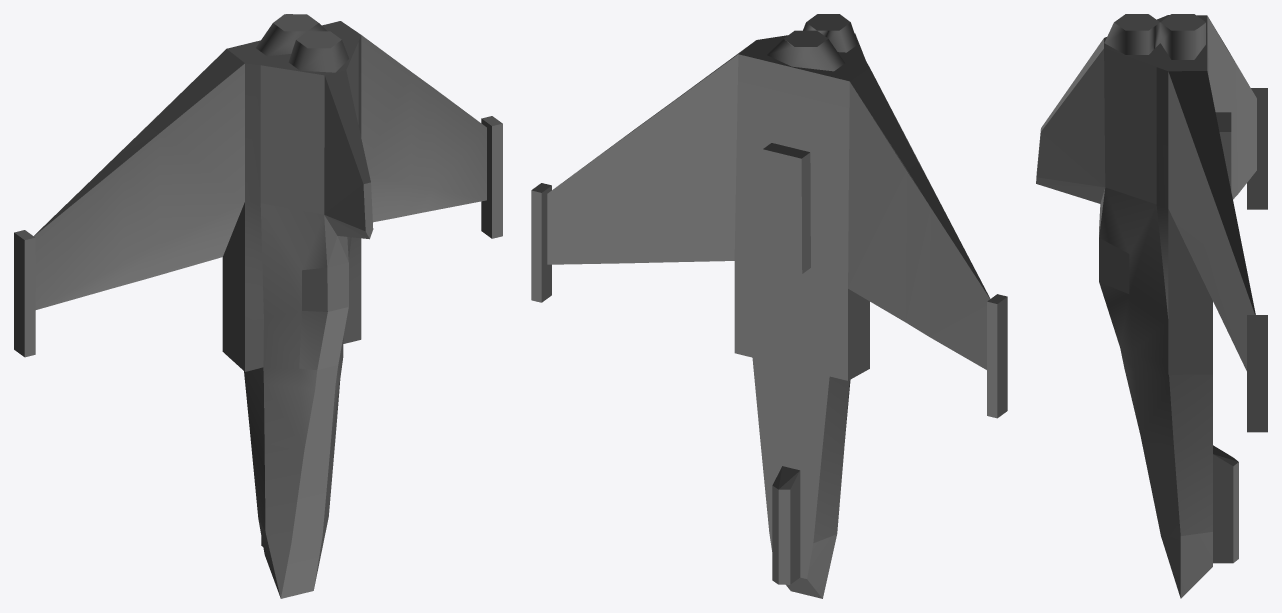
Rendered from ship_phantom_body.glb.
3 renders of one model, left to right at view 1: azimuth 30°, elevation 25°; view 2: azimuth 150°, elevation 25°; view 3: azimuth 270°, elevation 25°, orthographic. The views are drawn at different scales.
Visible parts, largest first — view 1: group_19; view 2: group_19; view 3: group_19.
Part boxes in pixels (x1=…): group_19: x1=14, y1=14, x2=502, y2=598; group_19: x1=531, y1=14, x2=1007, y2=598; group_19: x1=1036, y1=14, x2=1267, y2=598.
Size of the model in its own units: 888 by 1014 by 375.
2 materials, 2 textured.
